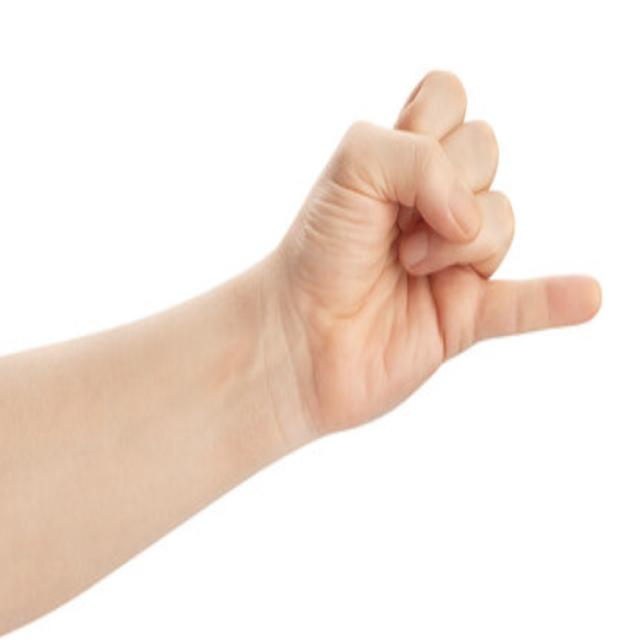pinky: (463, 252, 612, 365)
